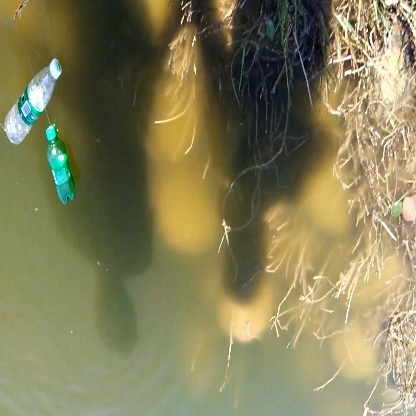bottle: (1, 59, 62, 147), (42, 126, 77, 206)
